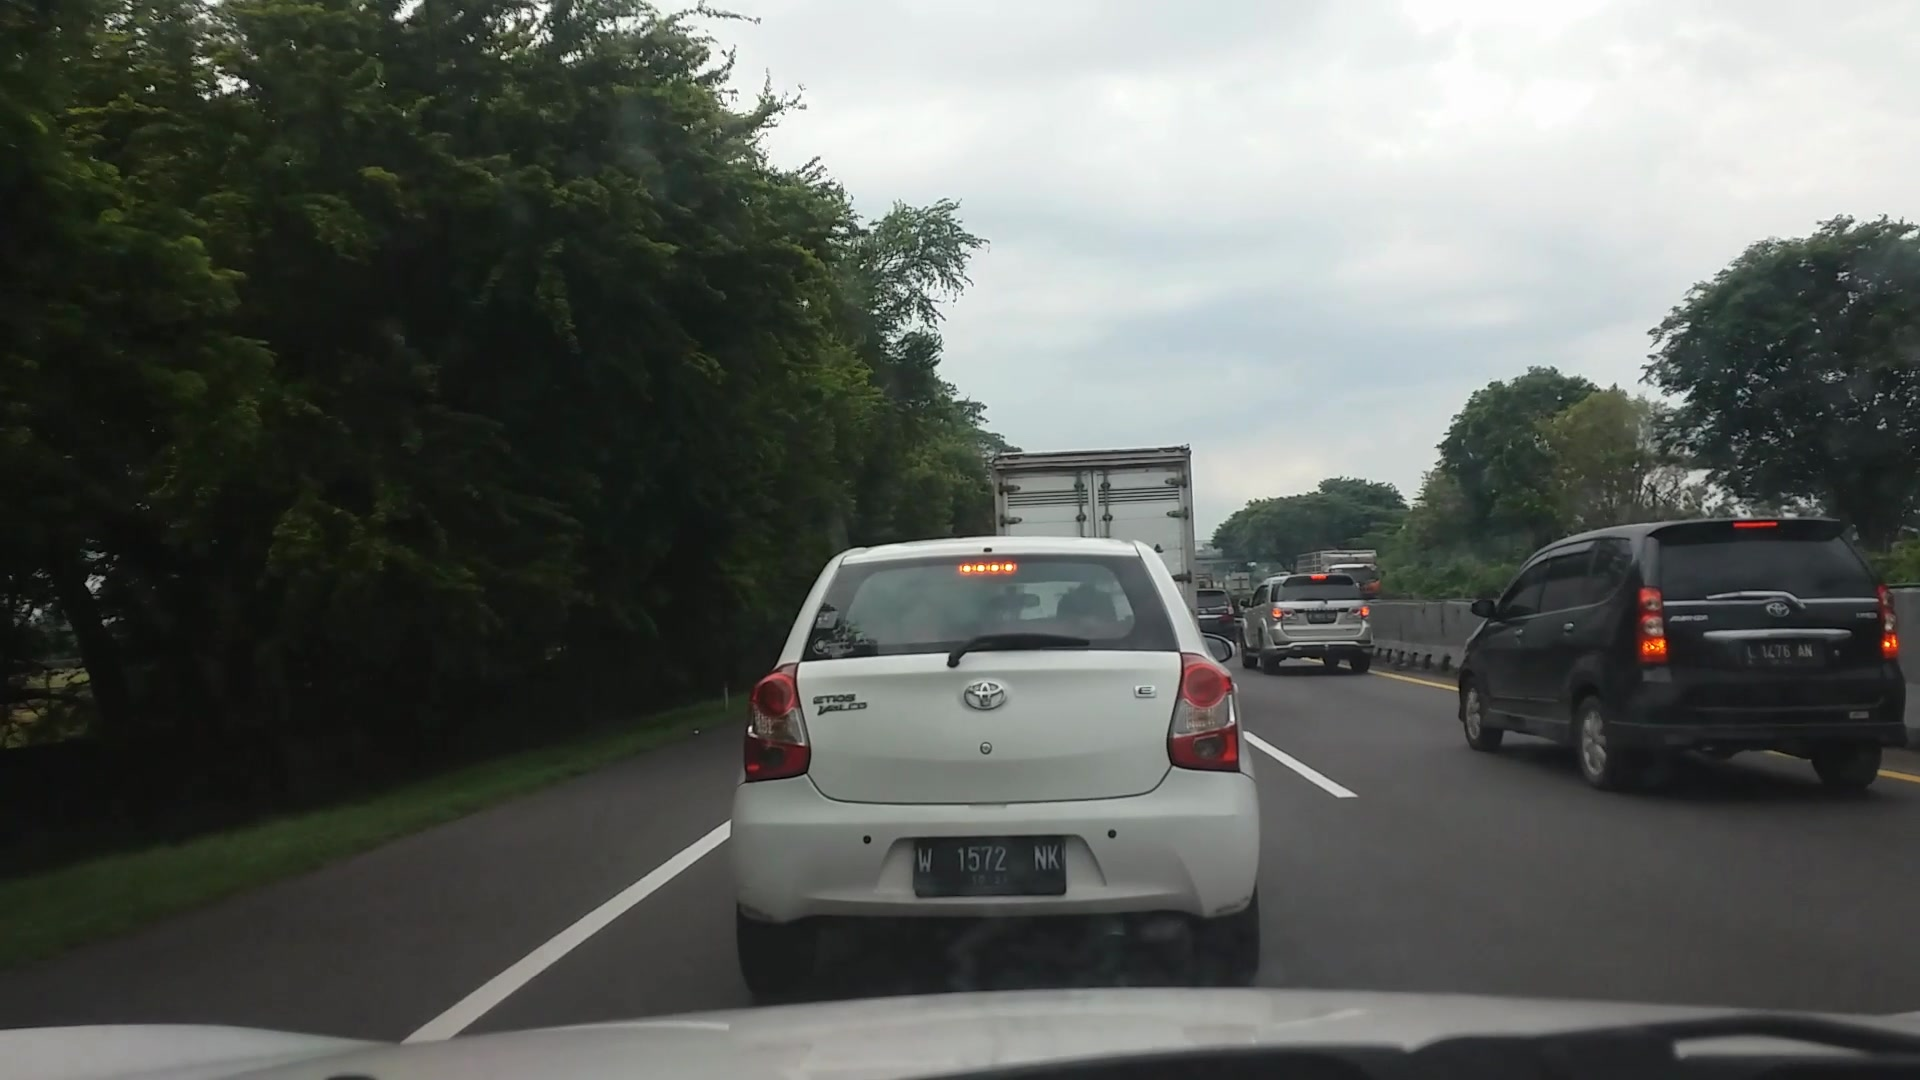plate_positive: (913, 837, 1065, 895)
